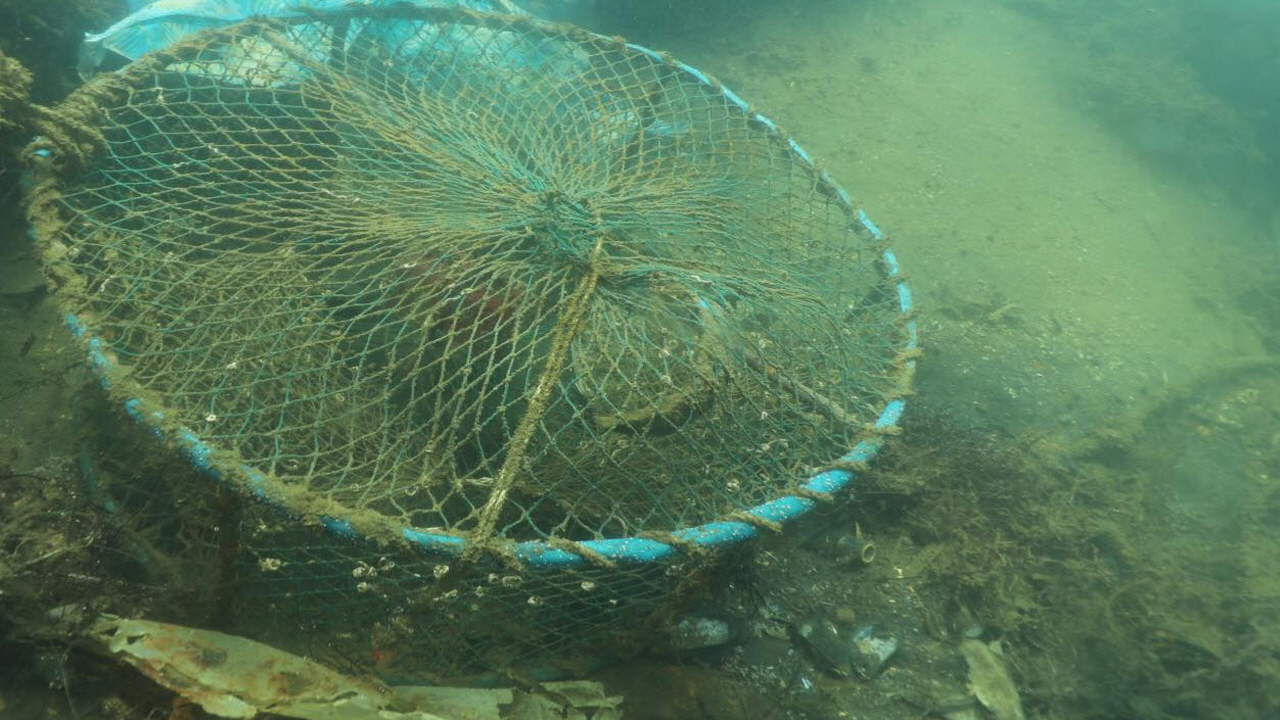circular fish trap: (27, 3, 919, 663)
